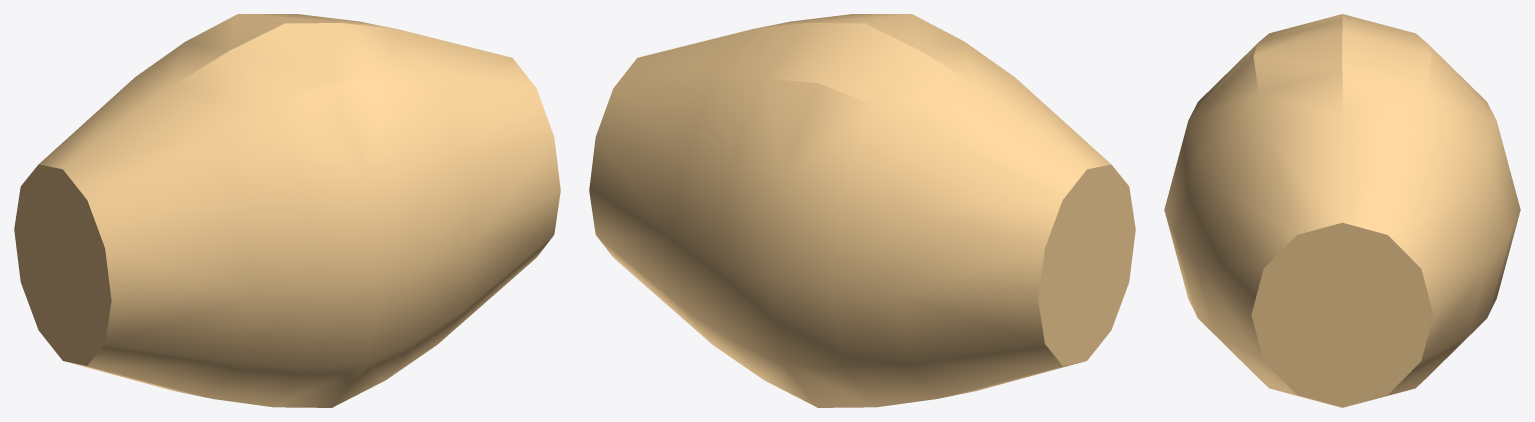
Rendered from ArmL_01.obj.
The picture shows the model from 3 angles, left to right: view 1: azimuth 30°, elevation 25°; view 2: azimuth 150°, elevation 25°; view 3: azimuth 270°, elevation 25°; orthographic projection. The views are drawn at different scales.
Parts seen in each view (by area): view 1: ArmL01; view 2: ArmL01; view 3: ArmL01.
Part boxes in pixels (left/top/right/bottom): ArmL01: left=14, top=14, right=560, bottom=407; ArmL01: left=589, top=14, right=1135, bottom=407; ArmL01: left=1164, top=14, right=1520, bottom=407.
Size of the model in its own units: 0.4991 by 0.3978 by 0.3622.
1 material, 1 textured.
